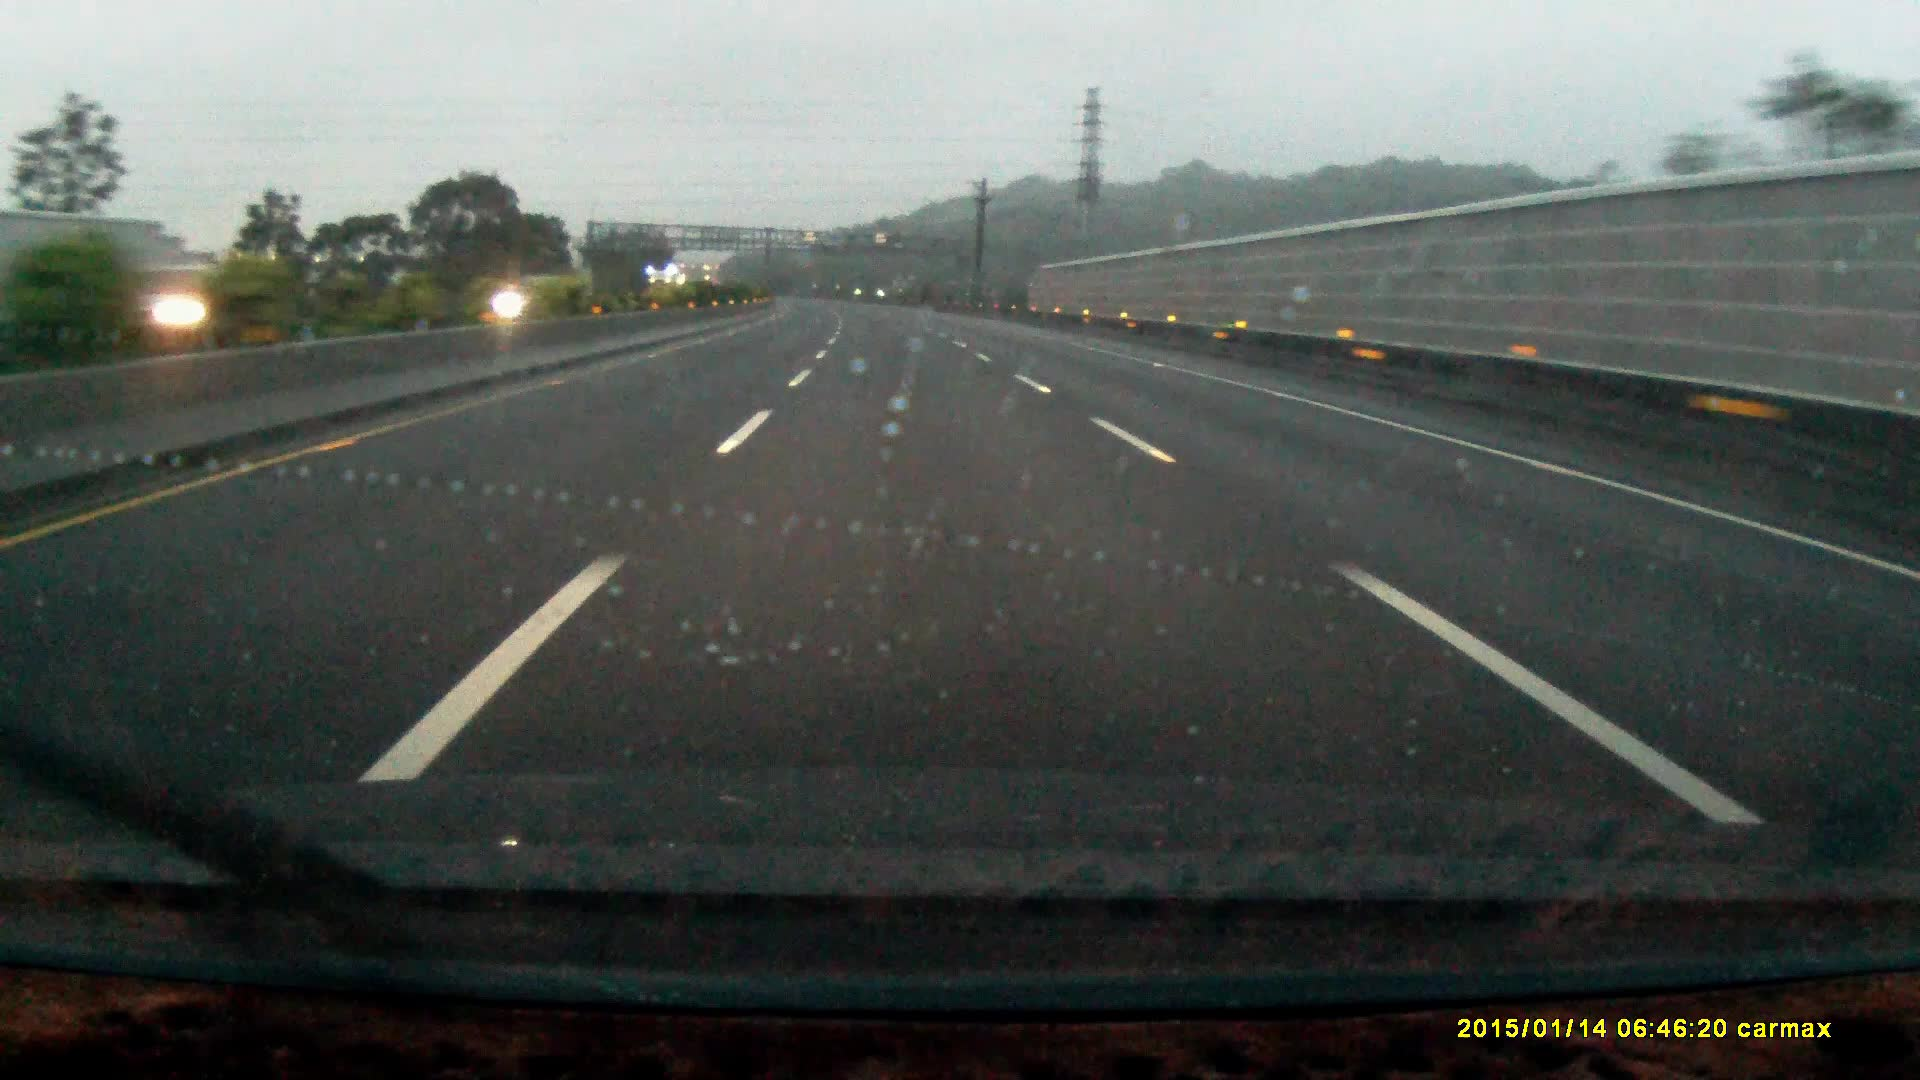vehicle: (119, 262, 235, 343), (458, 274, 538, 322), (647, 265, 688, 306)
